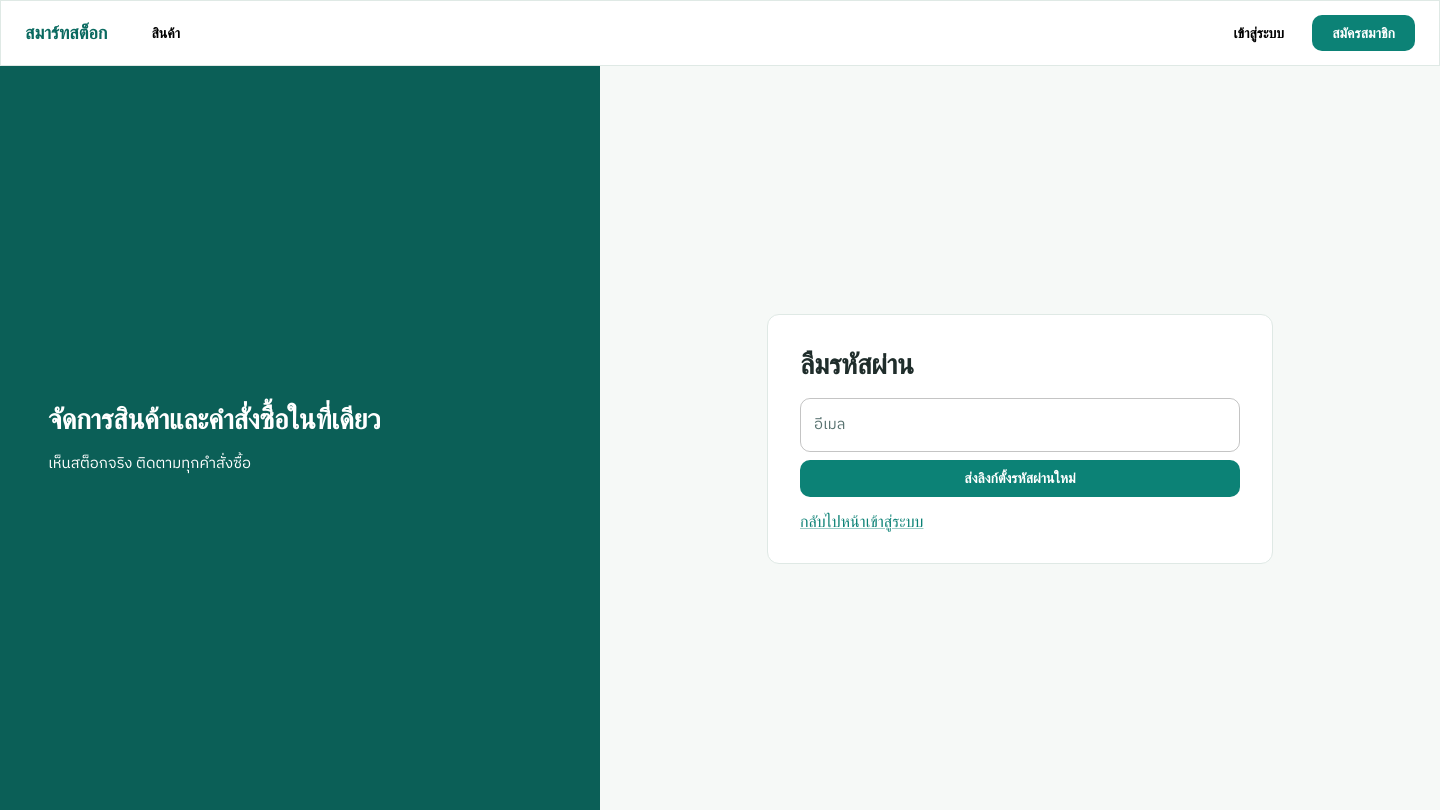
Test: ForgotPasswordPage validates the email format
In the field labelled "อีเมล": (1020, 425) [800,398,1240,452], type "not-an-email"
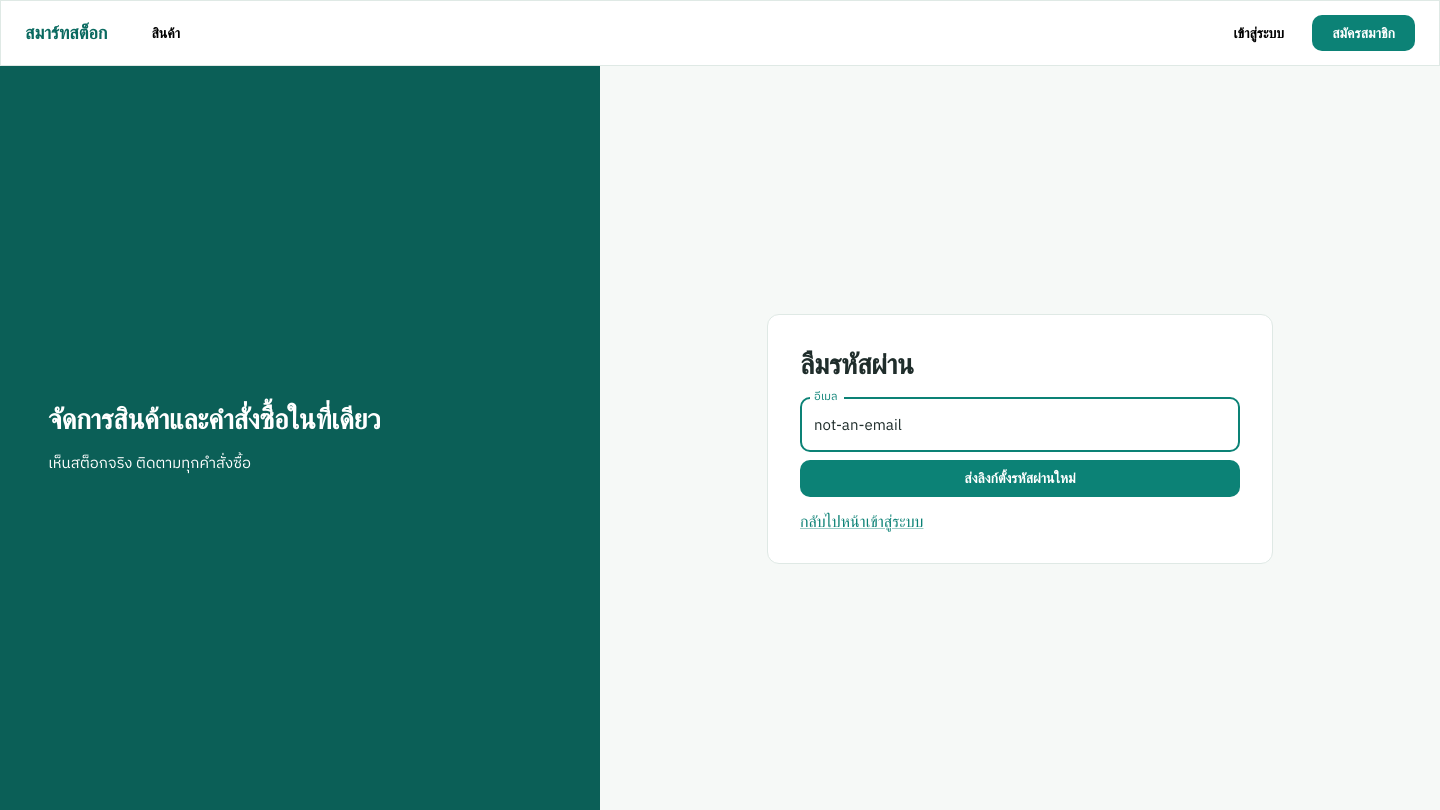
Click the button "ส่งลิงก์ตั้งรหัสผ่านใหม่": (1020, 479) [800,460,1240,497]
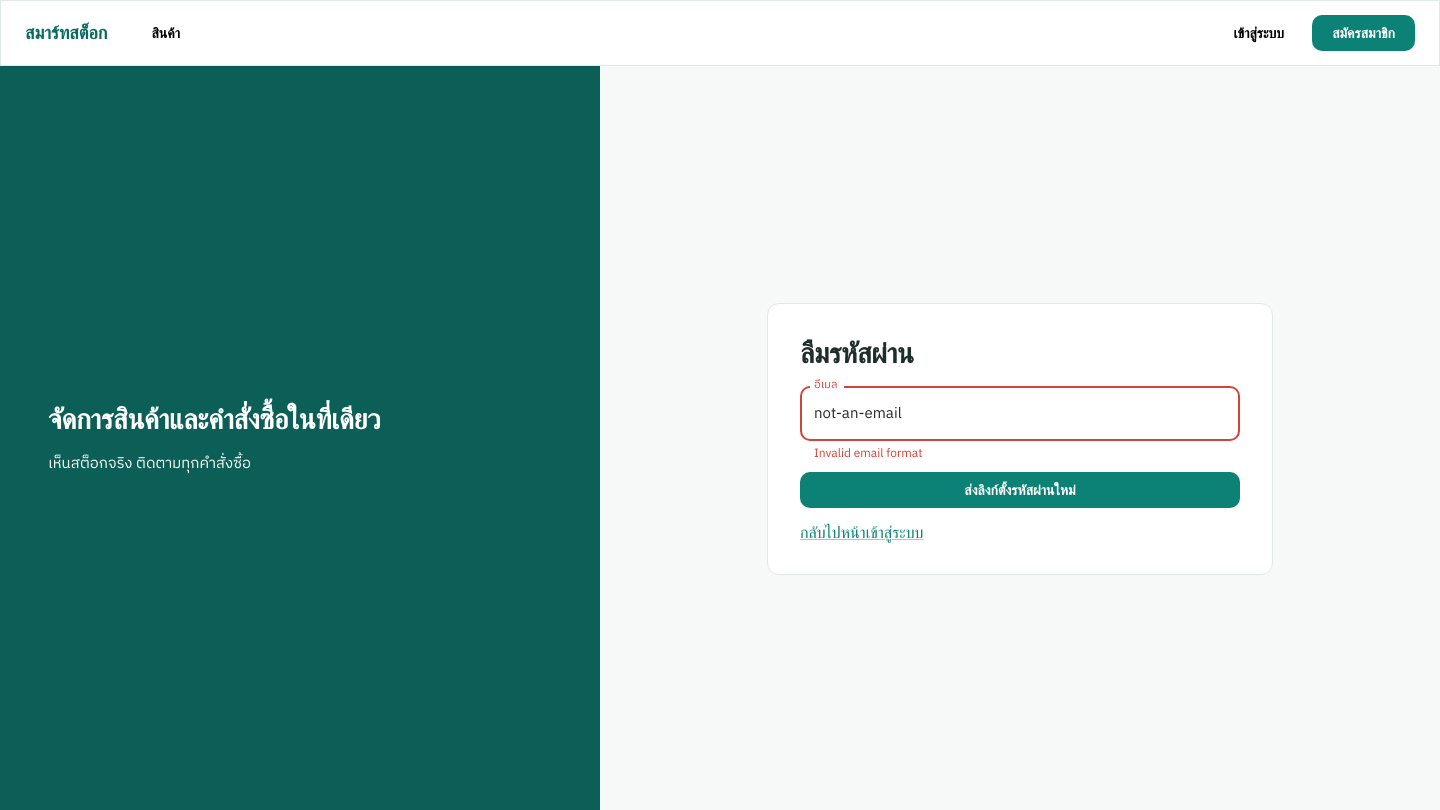
Expected: the text "Invalid email format" is shown, [814,444,922,463]
